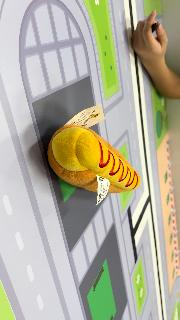hotdog: (47, 124, 141, 194)
